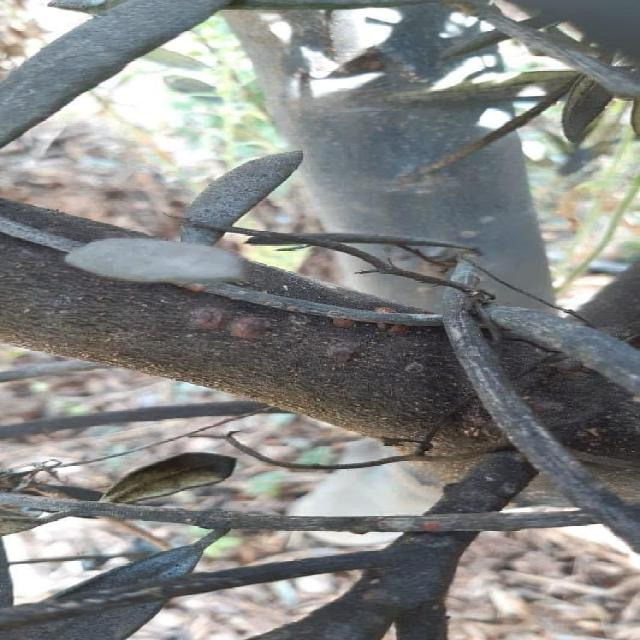Black Scale: (229, 315, 269, 338), (190, 307, 229, 329), (326, 341, 358, 360)
